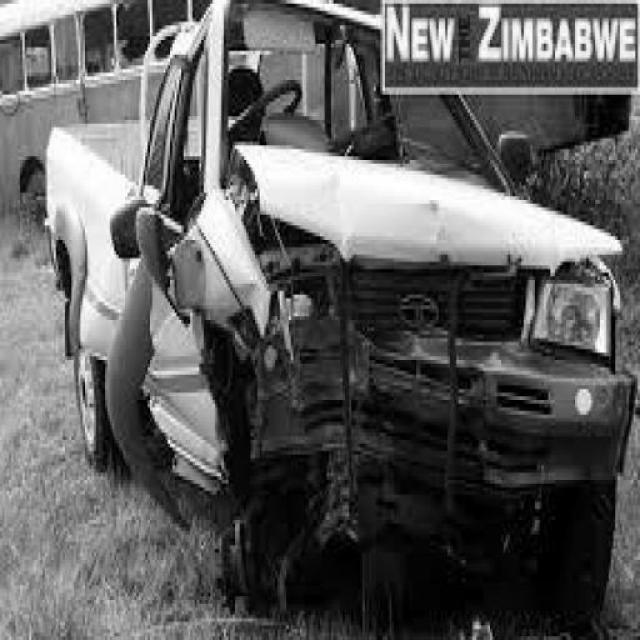crush: (108, 137, 609, 561)
